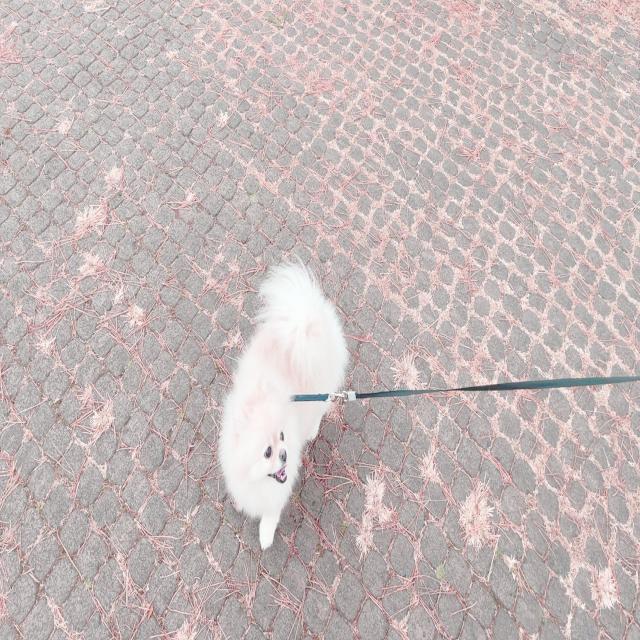Dog: (217, 253, 349, 554)
